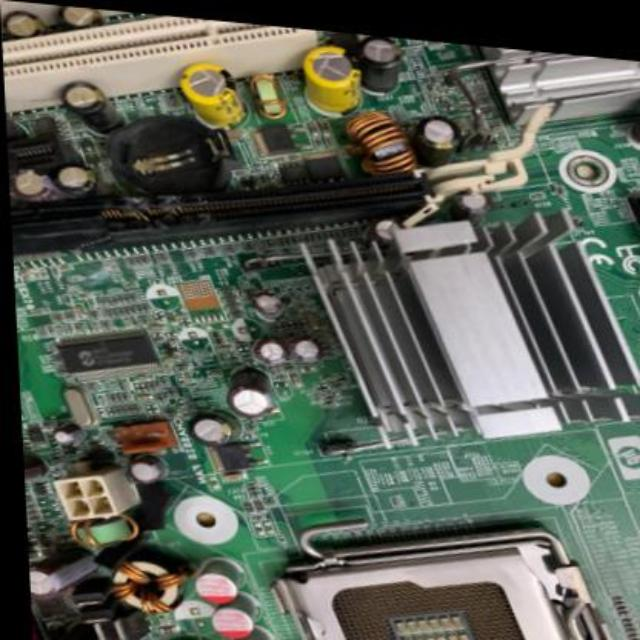PCB: (2, 9, 634, 639)
